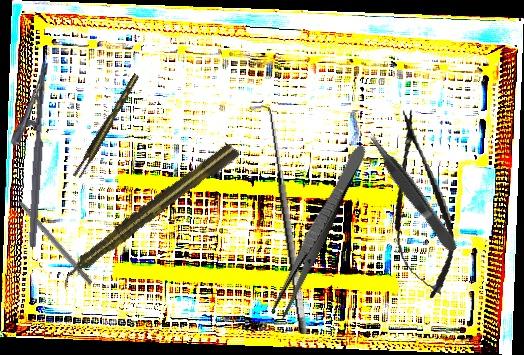Dressing Forceps: (267, 140, 370, 322)
Handpiece: (53, 139, 243, 289)
Hook Surgical: (248, 99, 312, 337), (6, 185, 94, 286)
Micro Scissor: (377, 105, 463, 303)
Needle Holder: (3, 60, 50, 247)
Tissue Forceps: (364, 130, 461, 256), (69, 73, 145, 180)
